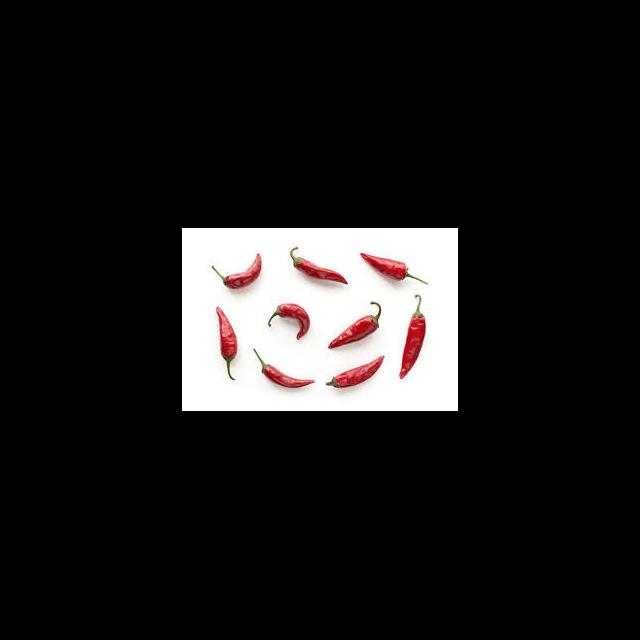chili_pepper: (396, 296, 425, 380), (253, 350, 316, 388), (357, 250, 427, 282), (289, 248, 348, 284), (212, 252, 263, 290), (330, 354, 385, 388), (327, 314, 381, 348), (215, 306, 237, 382), (267, 302, 310, 340)
